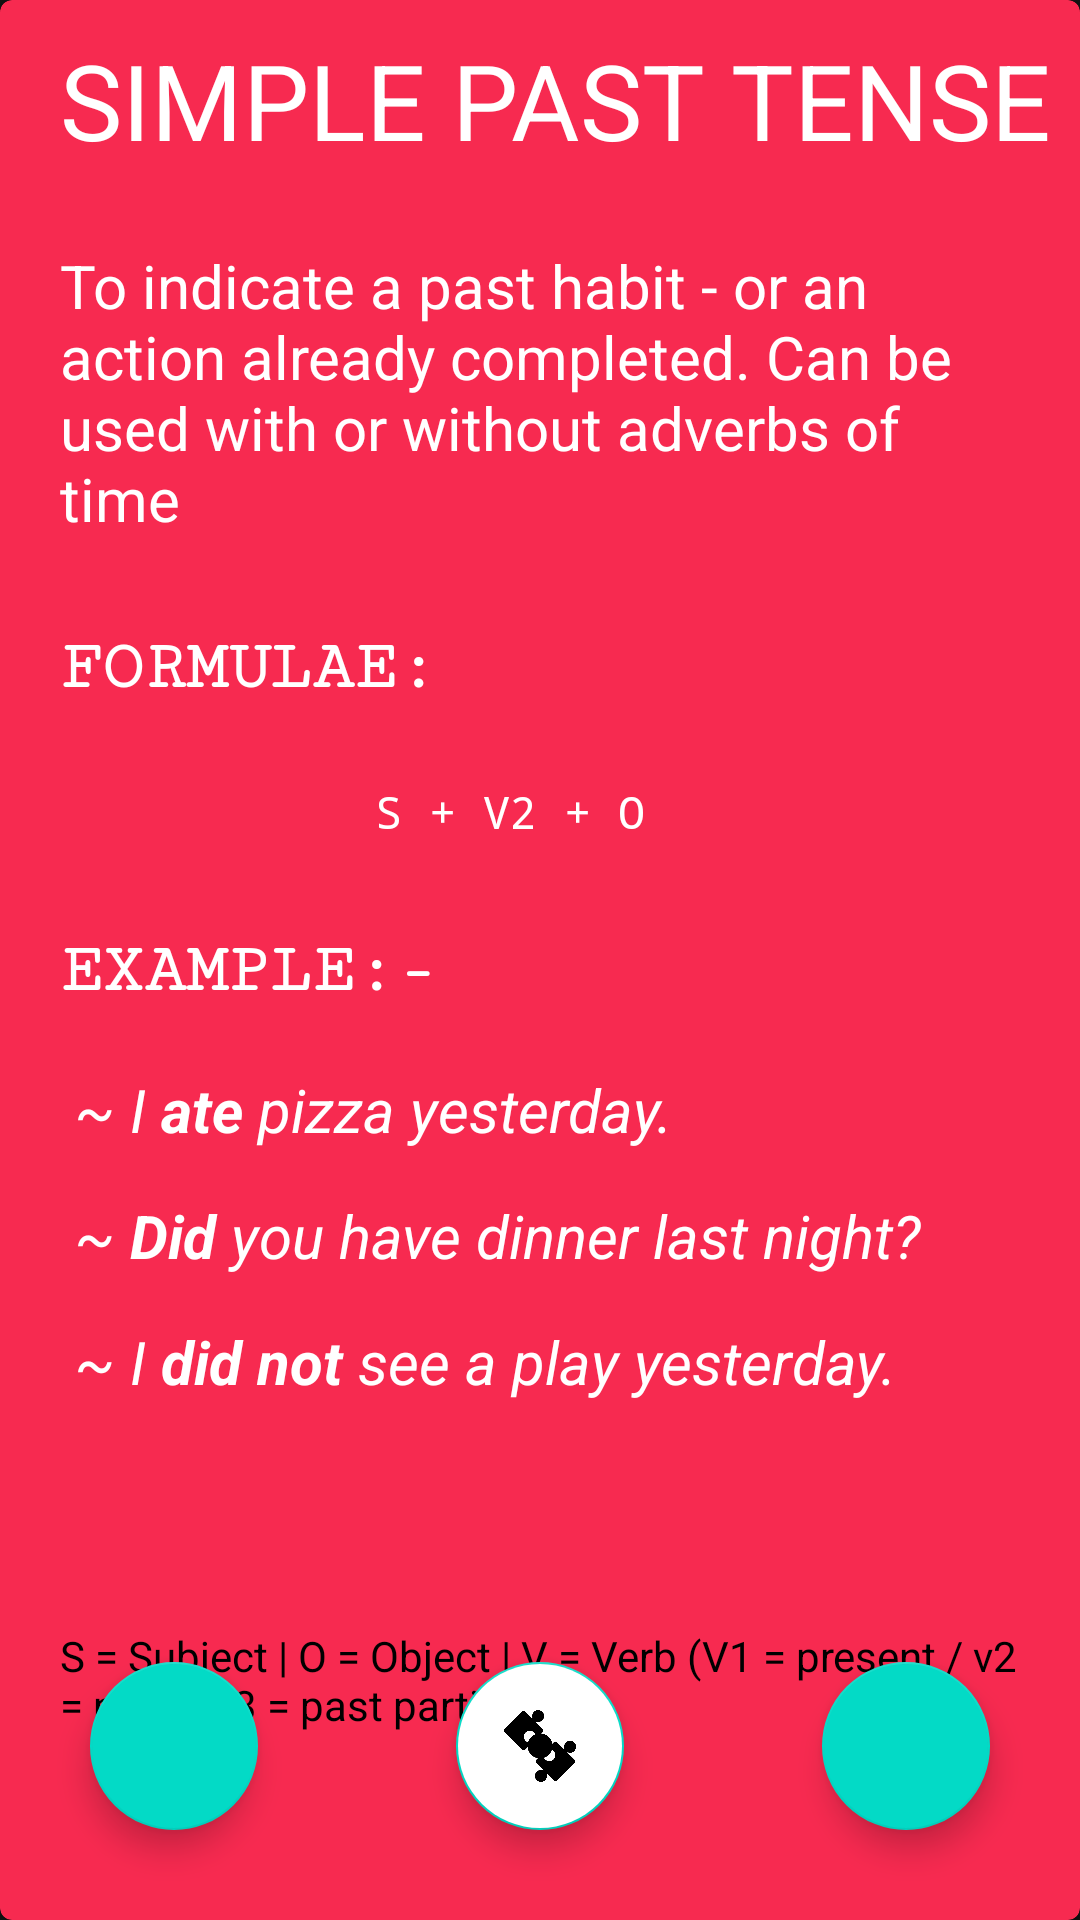

Where icons sit on this 1080px×1920px app screen, as (x1, y1, x2, y2):
puzzle: (456, 1662, 624, 1830)
